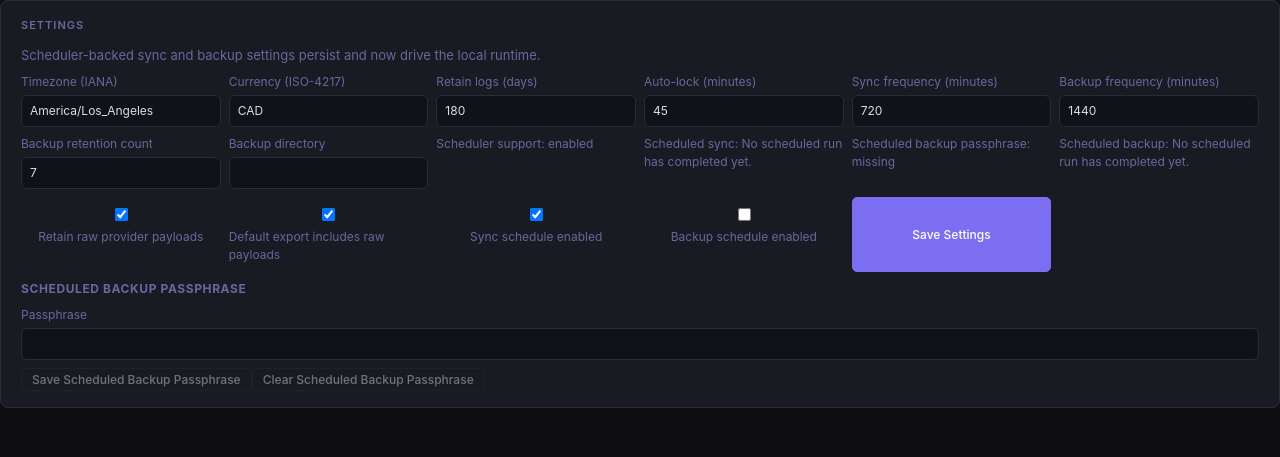
Scenario: SettingsPanel › shows local validation error for invalid number fields  REQ: ACC-SET-003, ACC-SET-004
Clear the number field with test id "settings-retain-logs-input": (536, 111) [436,95,636,127]
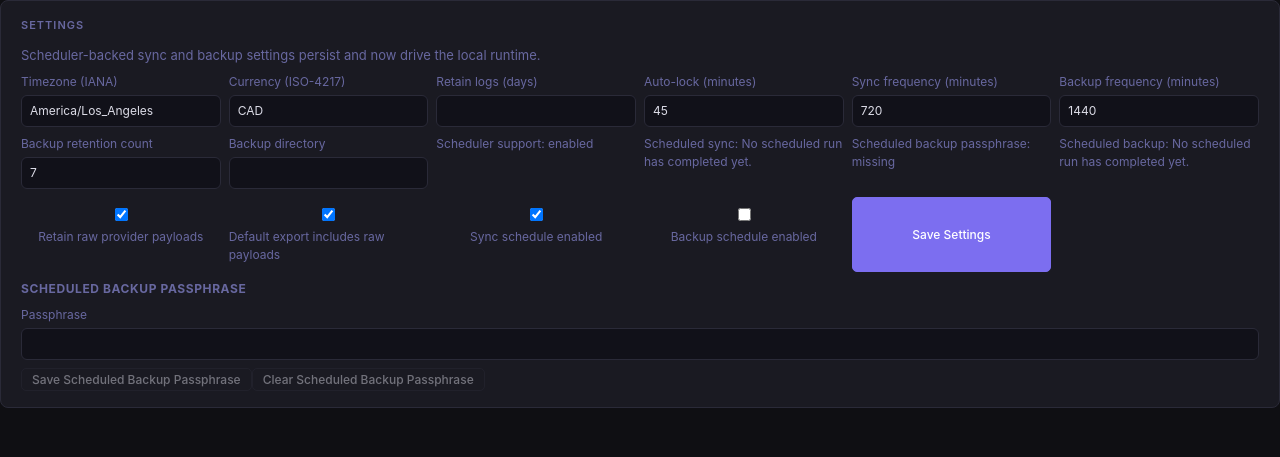
Click the button with test id "settings-save-btn": (952, 234) [852,197,1051,272]
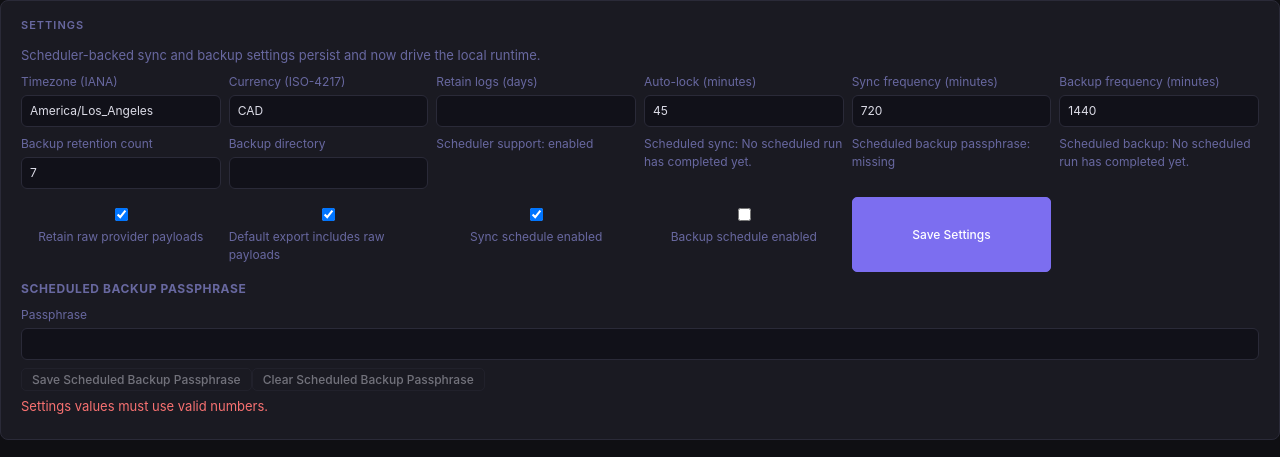
Check: the text "Settings values must use valid numbers." is shown, box [21,398,268,414]
